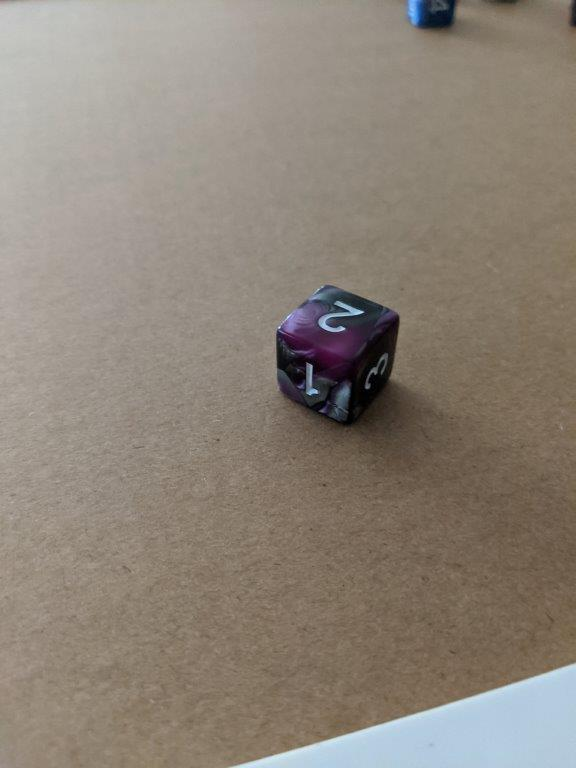d6-2: (275, 283, 402, 423)
